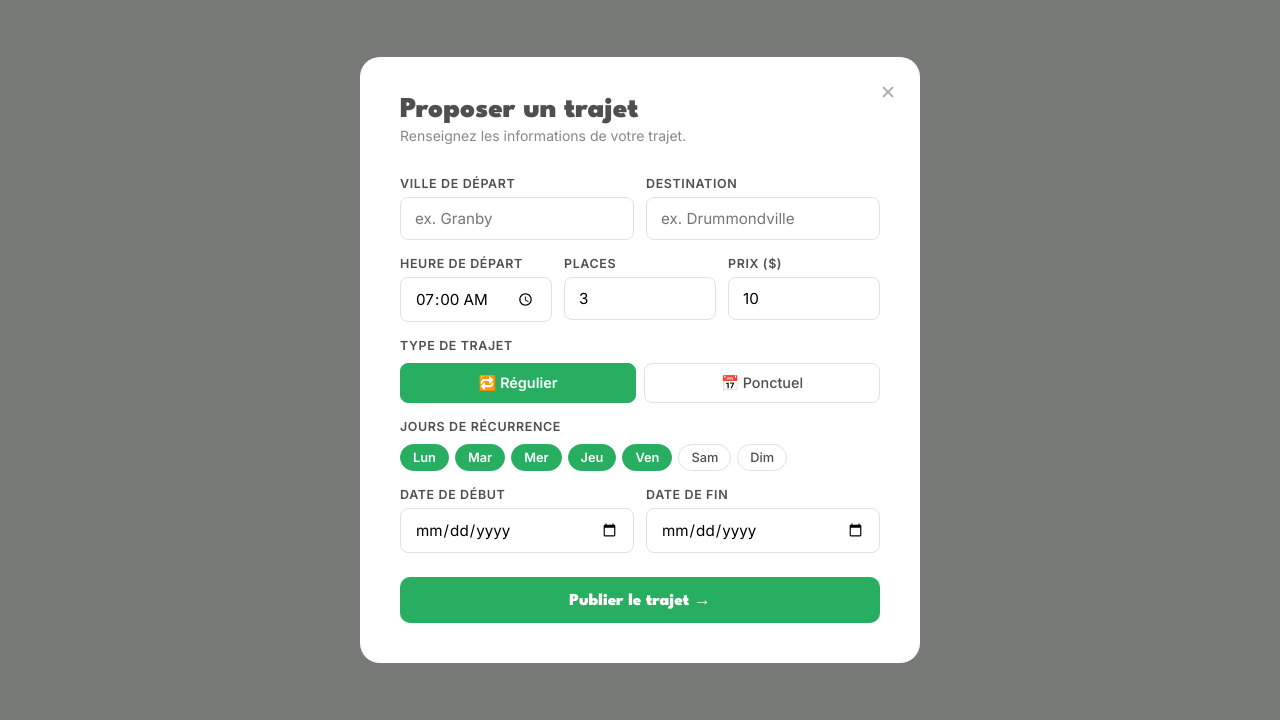
Scenario: CreateTrajetModal › affiche les erreurs de validation si formulaire vide soumis
Click the button "Publier le trajet →".
click(640, 600)  # box [400,578,880,624]
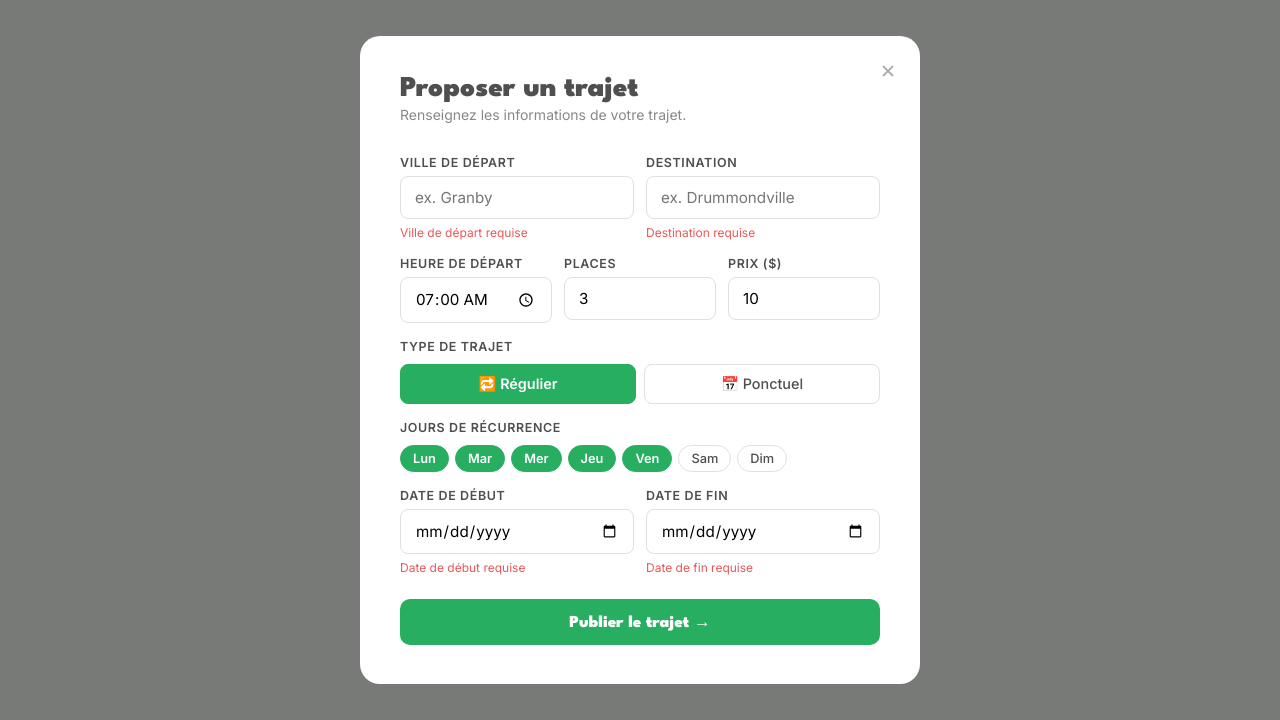
Check: the text "Ville de départ requise" is shown, box [400,225,528,240]
